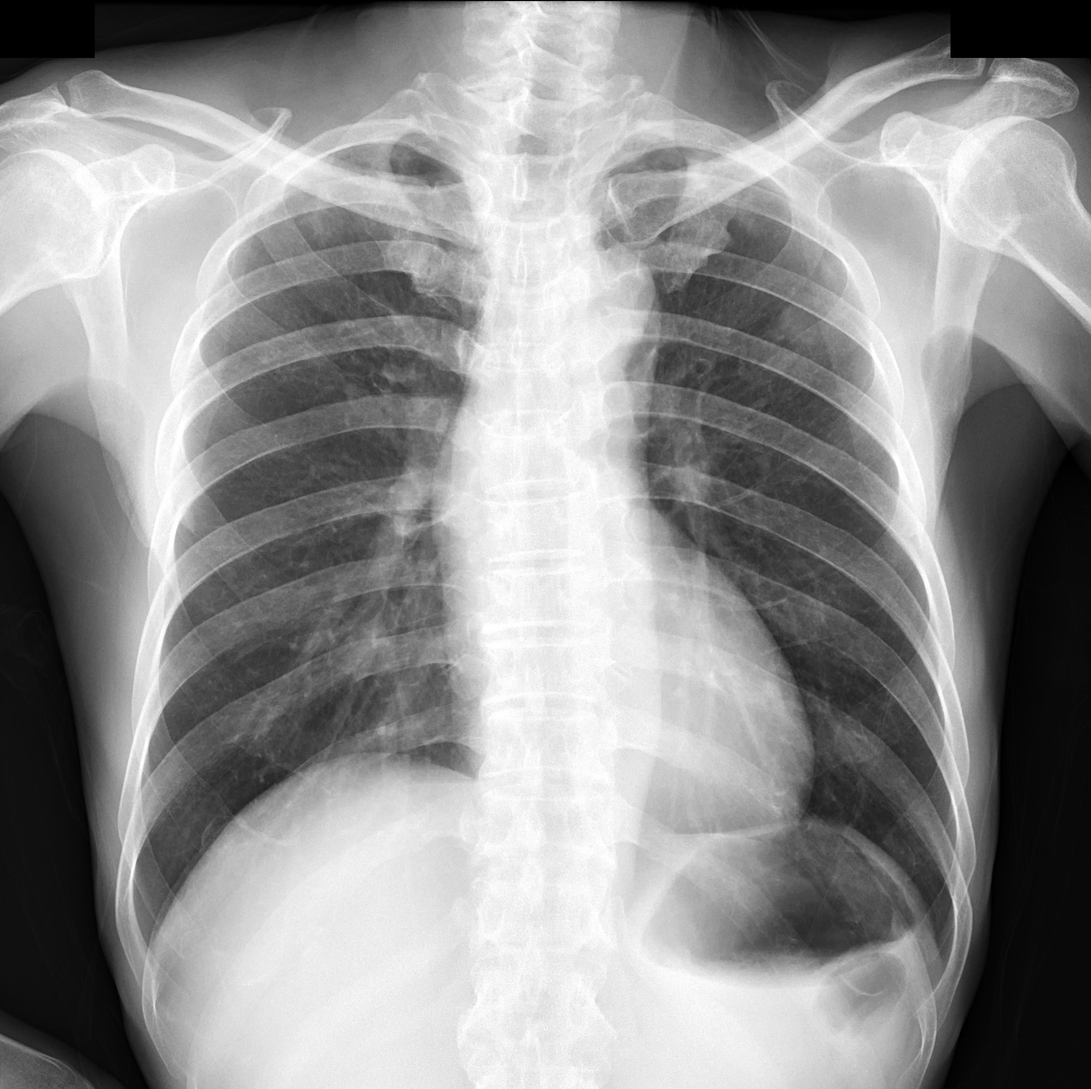Pulmonary fibrosis: (737, 207, 839, 354)
